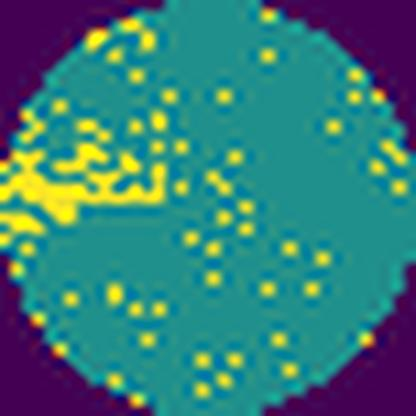Loc: (0, 135, 169, 225)
